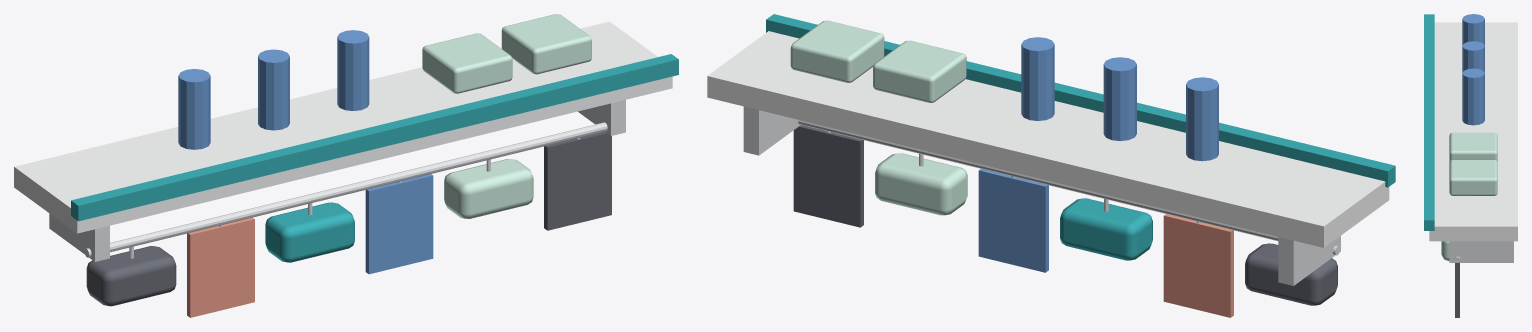
3 views of the same model, side by side, from view 1: azimuth 30°, elevation 25°; view 2: azimuth 150°, elevation 25°; view 3: azimuth 270°, elevation 25° (orthographic). The views are drawn at different scales.
Visible parts, largest first — view 1: accessories-rail; view 2: accessories-rail; view 3: accessories-rail.
Boxes of the visible parts, x1,y1,x2,y2 form: accessories-rail: (14, 14, 678, 317); accessories-rail: (707, 14, 1395, 317); accessories-rail: (1424, 14, 1517, 317).
Bounding box in the file's own units: 1.21 × 0.44 × 0.233.
